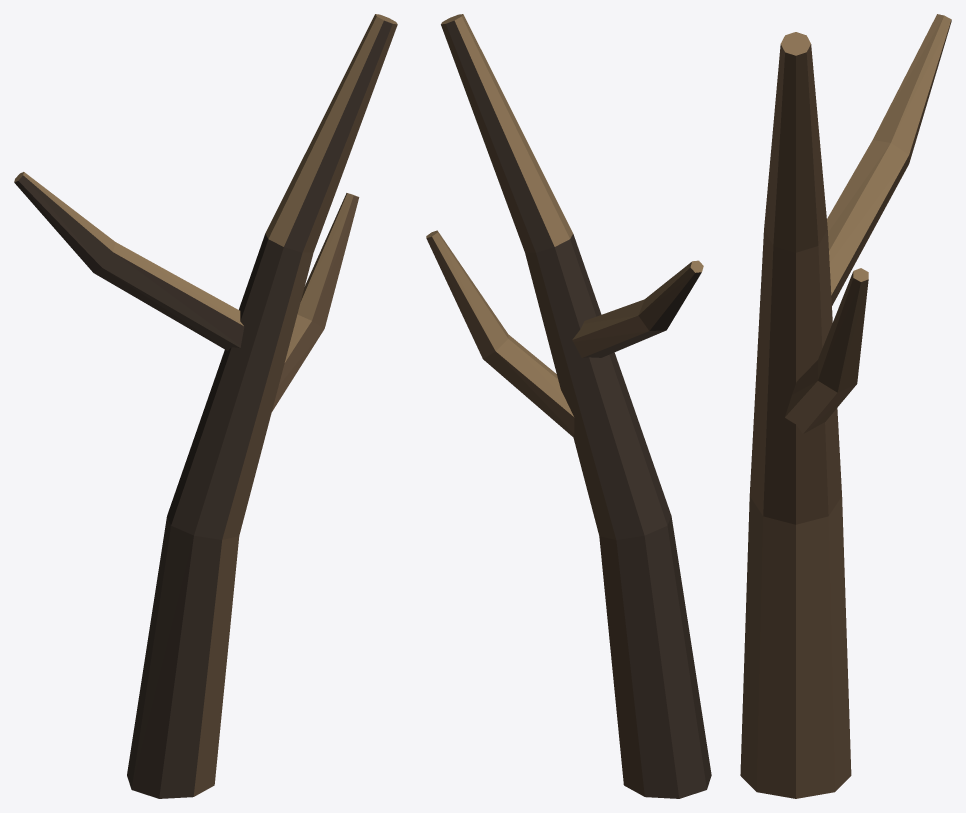
Rendered from TW_TREE_DEAD_LEAN_A_LOD0.glb.
The picture shows the model from 3 angles, left to right: view 1: azimuth 30°, elevation 25°; view 2: azimuth 150°, elevation 25°; view 3: azimuth 270°, elevation 25°; orthographic projection. The views are drawn at different scales.
Parts seen in each view (by area): view 1: TW_TREE_DEAD_LEAN_A_LOD0; view 2: TW_TREE_DEAD_LEAN_A_LOD0; view 3: TW_TREE_DEAD_LEAN_A_LOD0.
Boxes of the visible parts, x1,y1,x2,y2 form: TW_TREE_DEAD_LEAN_A_LOD0: [14, 14, 397, 798]; TW_TREE_DEAD_LEAN_A_LOD0: [426, 14, 711, 798]; TW_TREE_DEAD_LEAN_A_LOD0: [740, 14, 951, 798].
Bounding box in the file's own units: 1.26 × 2.69 × 0.5938.
1 material, 1 textured.
